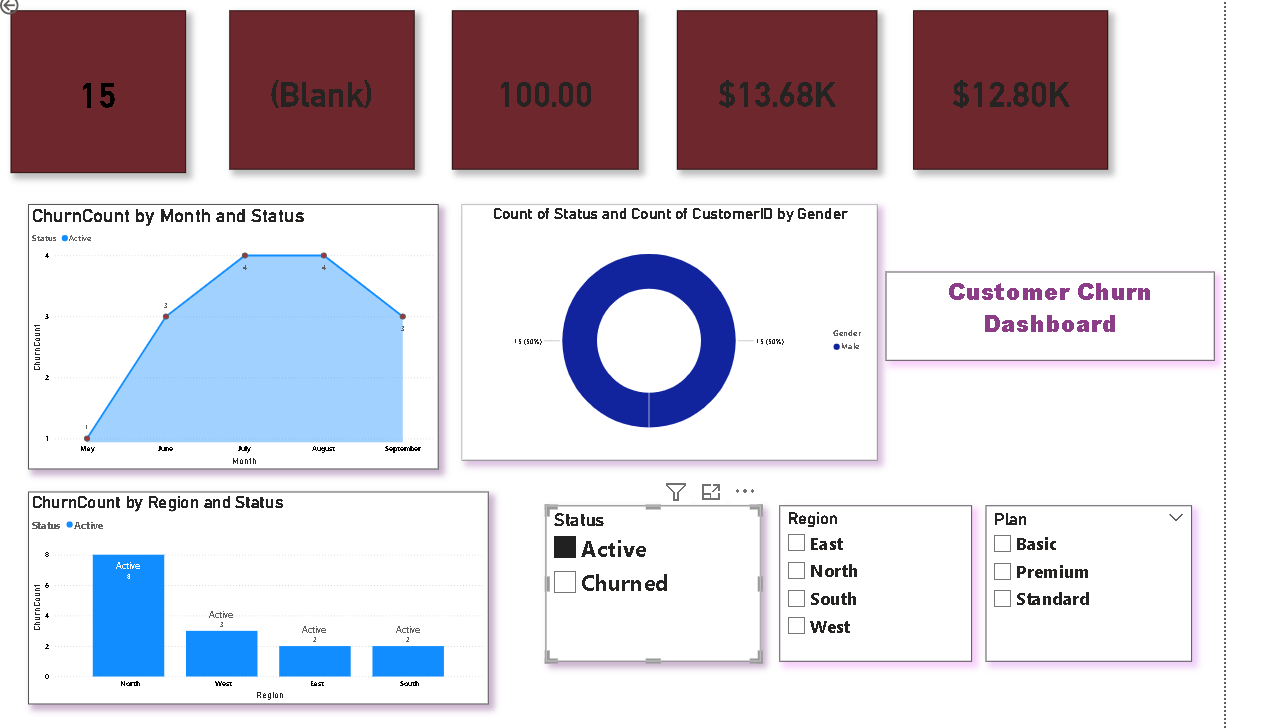

This screenshot's page, from the dashboard's own definition file:
{"tool":"powerbi","page":{"name":"Page 1","canvas":[2000,1200],"ordinal":0},"visuals":[{"type":"card","fields":{"Values":["Count(Sheet1.CustomerID)"]},"box":[22.4,28.5,285.3,264.9],"z":0},{"type":"card","fields":{"Values":["Count(Sheet1.CustomerID)"]},"box":[379.1,28.5,301.6,258.8],"z":1000},{"type":"actionButton","box":[0,0,100,40],"z":2000},{"type":"card","fields":{"Values":["Sheet1.ChurnRate"]},"box":[741.9,28.5,303.7,258.8],"z":3000},{"type":"card","fields":{"Values":["Sheet1.TotalMonthlyRevenue"]},"box":[1493.9,28.5,317.9,258.8],"z":4000},{"type":"card","fields":{"Values":["Sheet1.RevenueLost"]},"box":[1108.7,28.5,326.1,258.8],"z":5000},{"type":"lineChart","fields":{"Category":["Sheet1.ChurnDate.Variation.Date Hierarchy.Month"],"Y":["Sheet1.ChurnCount"],"Series":["Sheet1.Status"]},"box":[51,344.4,668.5,432.1],"z":6000},{"type":"columnChart","fields":{"Category":["Sheet1.Region"],"Y":["Sheet1.ChurnCount"],"Series":["Sheet1.Status"]},"box":[51,813.2,750,346.5],"z":7000},{"type":"donutChart","fields":{"Category":["Sheet1.Gender"],"Y":["CountNonNull(Sheet1.Status)","CountNonNull(Sheet1.CustomerID)"]},"box":[758.2,344.4,676.6,417.8],"z":8000},{"type":"slicer","fields":{"Values":["Sheet1.Plan"]},"box":[1612.1,835.6,336.3,254.8],"z":9000},{"type":"slicer","fields":{"Values":["Sheet1.Region"]},"box":[1275.8,835.6,313.9,254.8],"z":10000},{"type":"slicer","fields":{"Values":["Sheet1.Status"]},"box":[894.7,835.6,350.5,254.8],"z":11000},{"type":"textbox","box":[1449.1,454.5,536,144.7],"z":11001}]}

Visuals, with their boxes in screenshot pixels (x1, y1, x2, y2):
card - Count(Sheet1.CustomerID): left=4, top=8, right=181, bottom=172
card - Count(Sheet1.CustomerID): left=225, top=8, right=412, bottom=168
actionButton: left=0, top=0, right=52, bottom=15
card - Sheet1.ChurnRate: left=450, top=8, right=638, bottom=168
card - Sheet1.TotalMonthlyRevenue: left=916, top=8, right=1113, bottom=168
card - Sheet1.RevenueLost: left=677, top=8, right=880, bottom=168
lineChart - Sheet1.ChurnDate.Variation.Date Hierarchy.Month x Sheet1.ChurnCount: left=22, top=204, right=436, bottom=471
columnChart - Sheet1.Region x Sheet1.ChurnCount: left=22, top=494, right=487, bottom=709
donutChart - Sheet1.Gender x CountNonNull(Sheet1.Status): left=460, top=204, right=880, bottom=463
slicer - Sheet1.Plan: left=990, top=508, right=1198, bottom=666
slicer - Sheet1.Region: left=781, top=508, right=976, bottom=666
slicer - Sheet1.Status: left=545, top=508, right=762, bottom=666
textbox: left=889, top=272, right=1221, bottom=362
